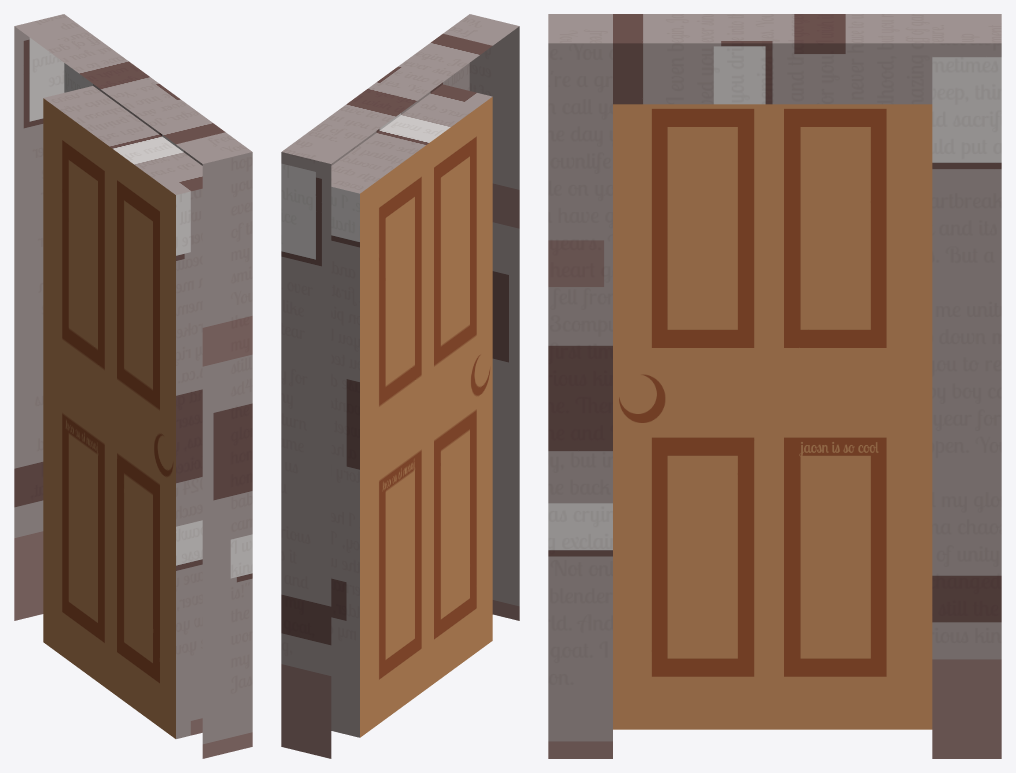
Rendered from Door.fbx.
The picture shows the model from 3 angles, left to right: view 1: azimuth 30°, elevation 25°; view 2: azimuth 150°, elevation 25°; view 3: azimuth 270°, elevation 25°; orthographic projection. The views are drawn at different scales.
Visible parts, largest first — view 1: Door; view 2: Door; view 3: Door.
Boxes of the visible parts, x1=… form: Door: x1=14, y1=14, x2=252, y2=758; Door: x1=281, y1=14, x2=519, y2=758; Door: x1=548, y1=14, x2=1001, y2=758.
Bounding box in the file's own units: 21.75 × 248 × 142.
